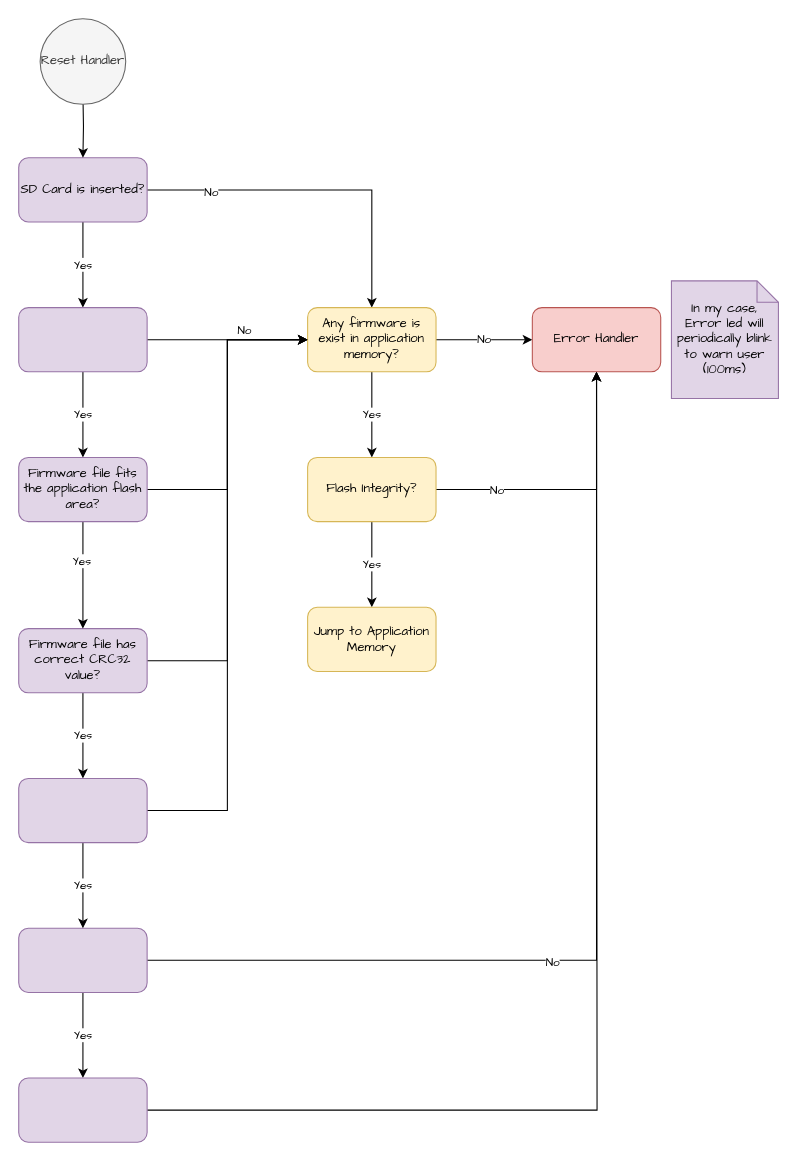
Image size: 797x1161. Some labels were removed from this diagram. Each missing label, with the centre of its shape:
"Firmware file is exist in SD Card? (User Defined .bin File)" goes at point 82,339.
"Rename firmware in SD Card and Reset Controller" goes at point 82,1109.
"SD Card Flash Write Operation is successful?" goes at point 82,959.
"Unlock and Erase Flash Sector is successful?" goes at point 82,810.
